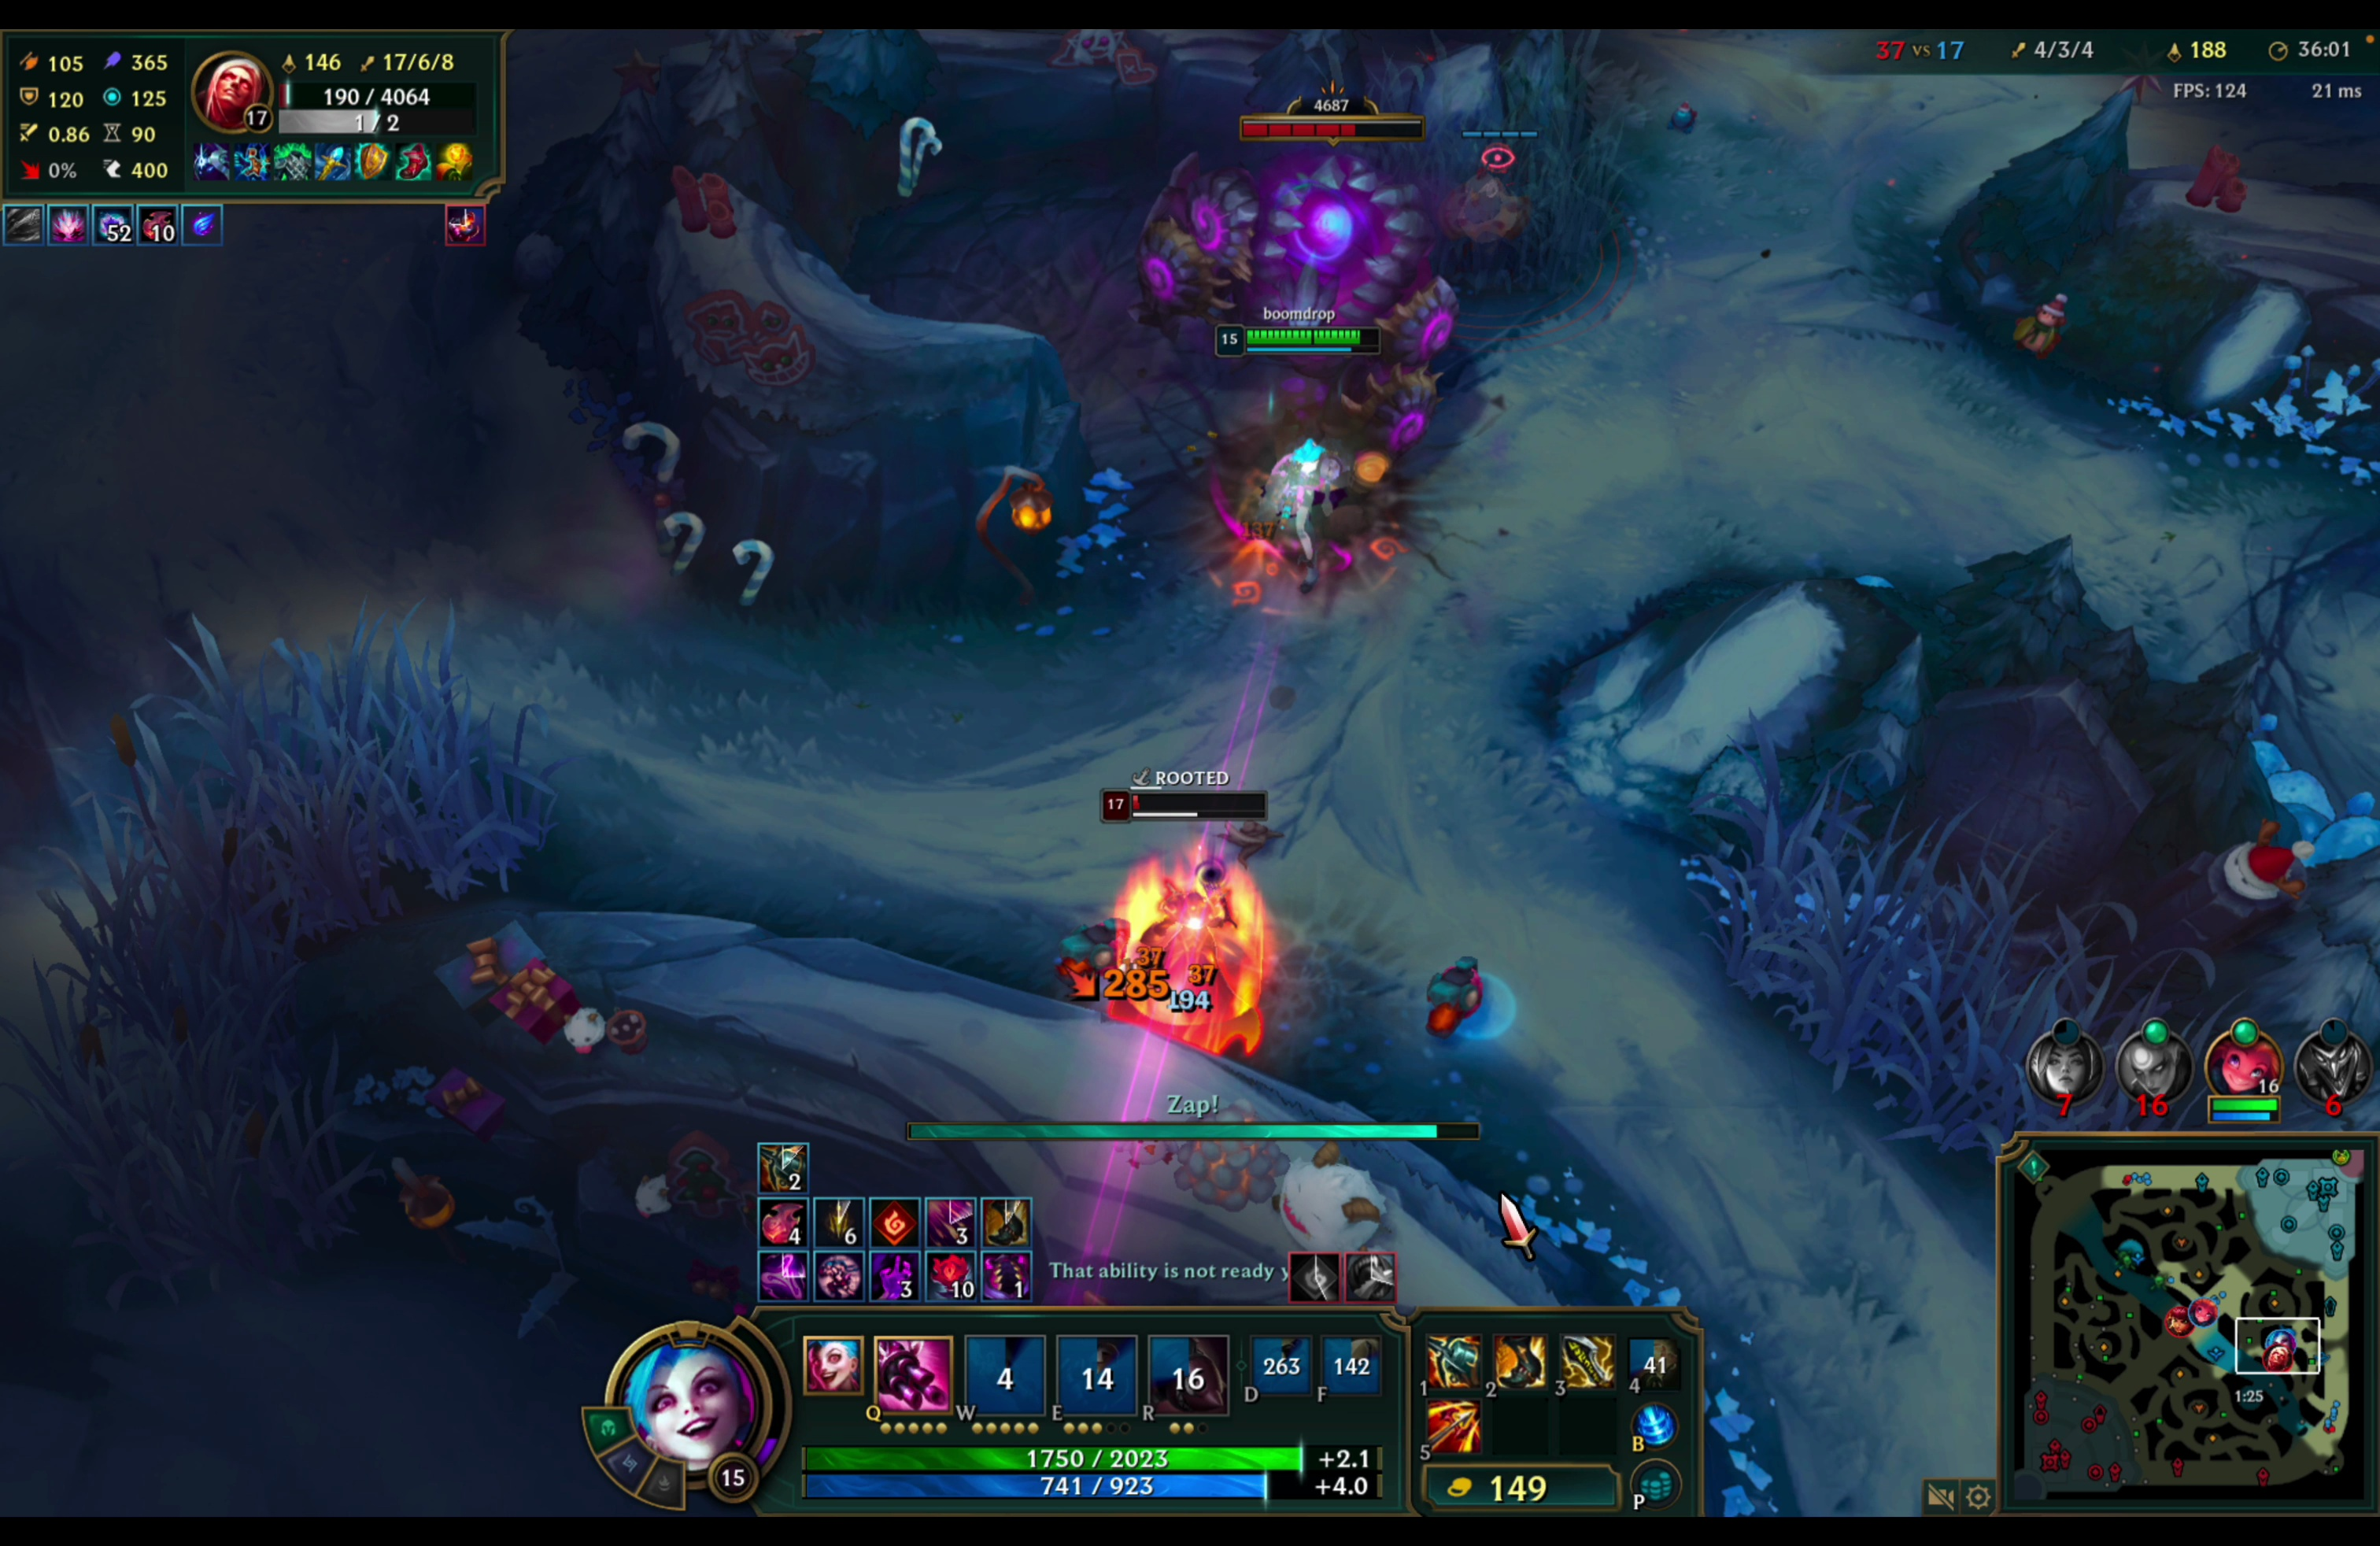JINX_W_PROJECTILE: (1187, 295, 1416, 642)
